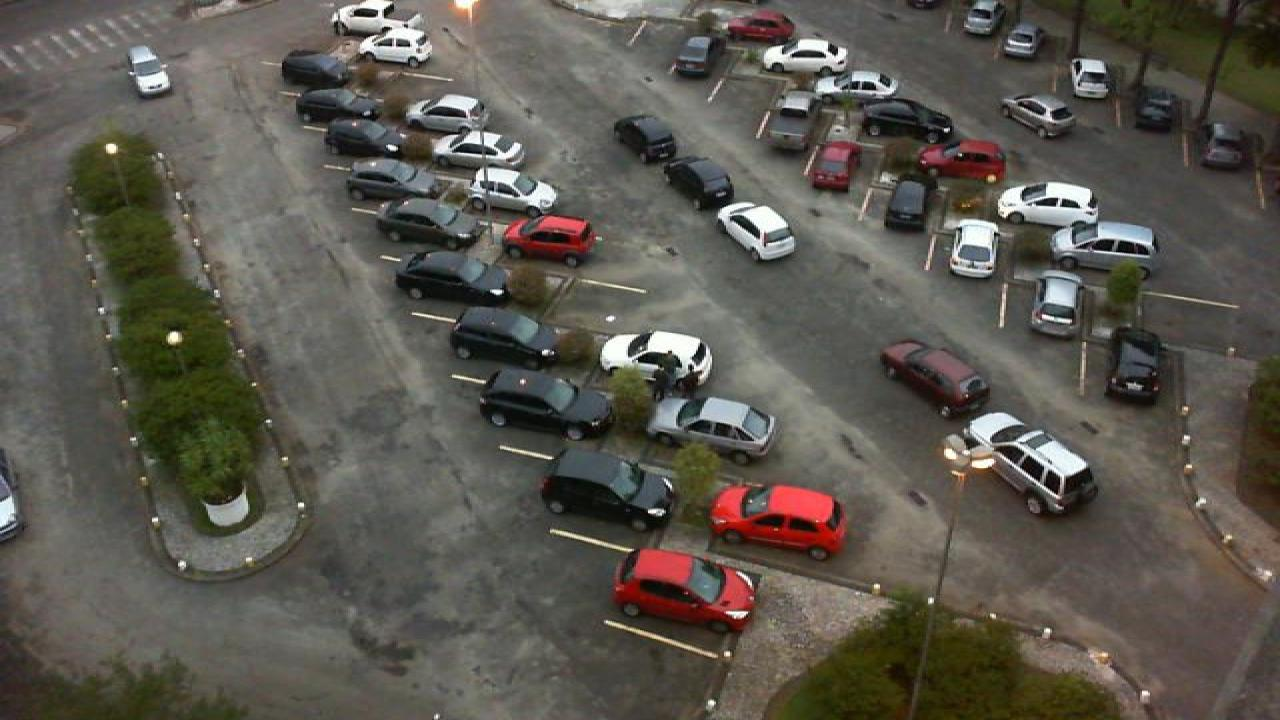Car: (964, 411, 1100, 516), (612, 549, 758, 636), (538, 448, 678, 533), (708, 483, 848, 560), (480, 367, 616, 441), (878, 338, 990, 420), (646, 395, 780, 463), (598, 327, 718, 397), (394, 248, 514, 312), (448, 306, 564, 372), (376, 197, 484, 250), (1052, 221, 1160, 272), (714, 202, 798, 264), (502, 214, 598, 266), (466, 165, 562, 217), (1106, 326, 1166, 400), (858, 96, 954, 142), (996, 181, 1102, 222), (344, 158, 436, 202), (916, 138, 1006, 182), (434, 127, 528, 169), (1000, 93, 1078, 142), (662, 155, 734, 207), (402, 93, 490, 134), (946, 218, 1004, 280), (758, 36, 848, 75), (1028, 271, 1082, 335), (320, 118, 402, 160), (614, 114, 680, 166), (330, 0, 422, 37), (760, 93, 818, 151), (294, 87, 386, 122), (278, 50, 356, 90), (806, 141, 864, 192), (354, 32, 434, 68), (882, 180, 936, 233), (1200, 118, 1254, 171), (816, 68, 900, 102), (726, 9, 798, 44), (126, 45, 172, 98), (670, 34, 722, 78), (1136, 84, 1180, 130), (1068, 57, 1112, 102), (960, 0, 1004, 37), (1000, 25, 1044, 60)
